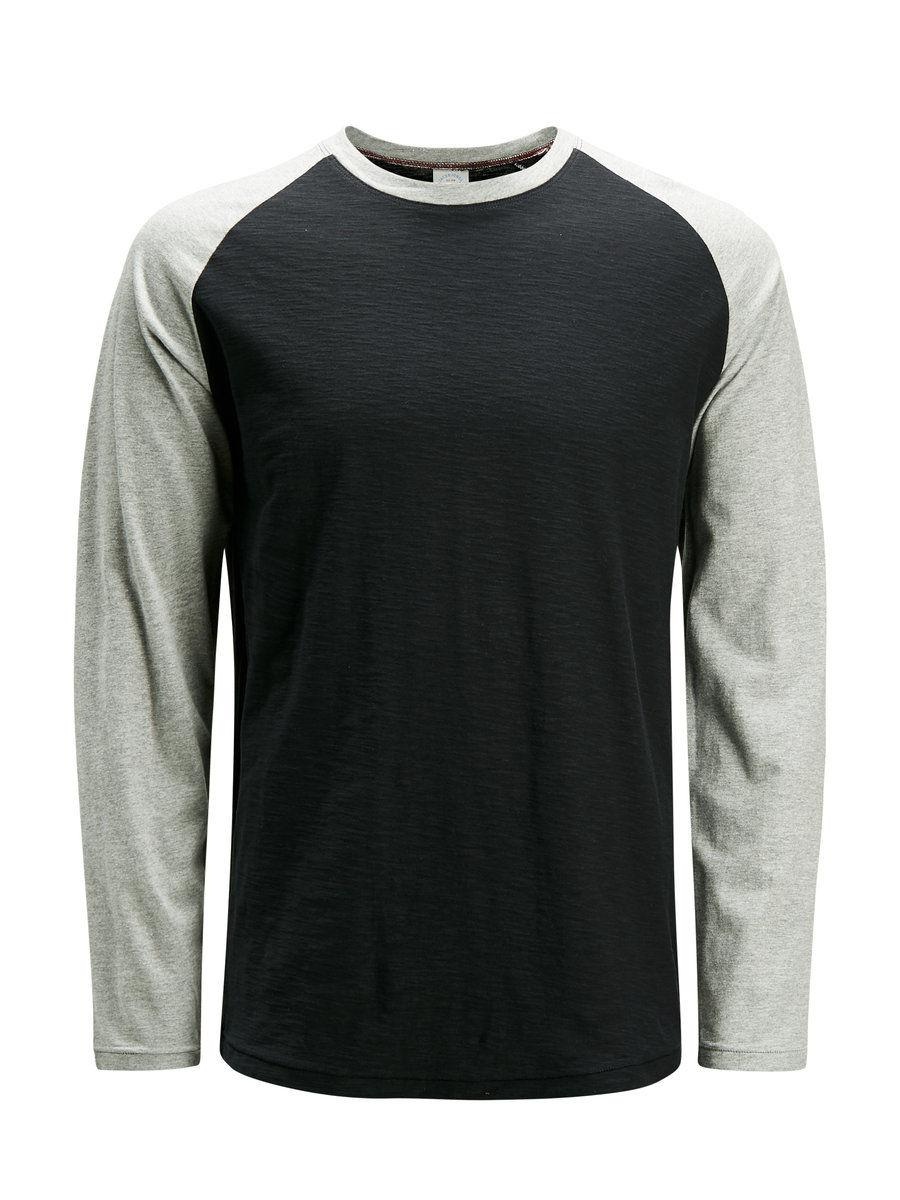teeshirt: (47, 122, 889, 1169)
